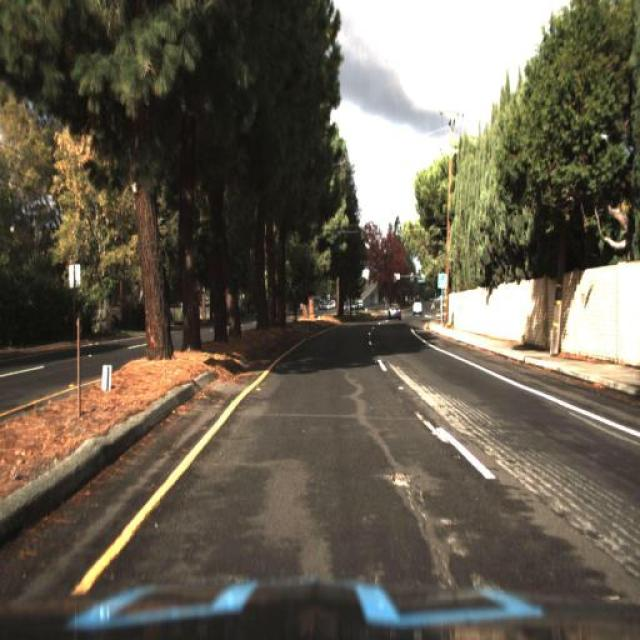car: (383, 300, 407, 325), (408, 294, 426, 324)
